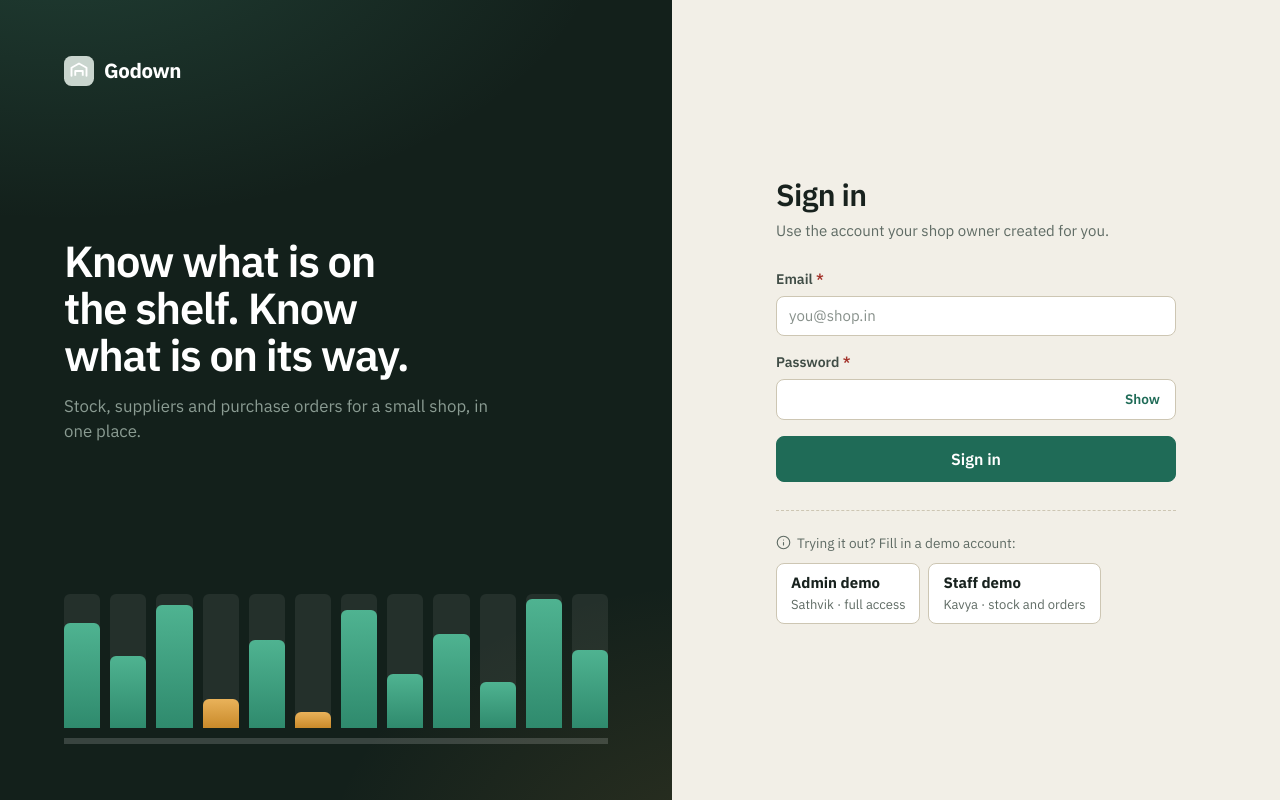
Test case: login › shows the server's message when the login fails
Click the button "Admin demo Sathvik · full access": (848, 593) [776,563,920,624]
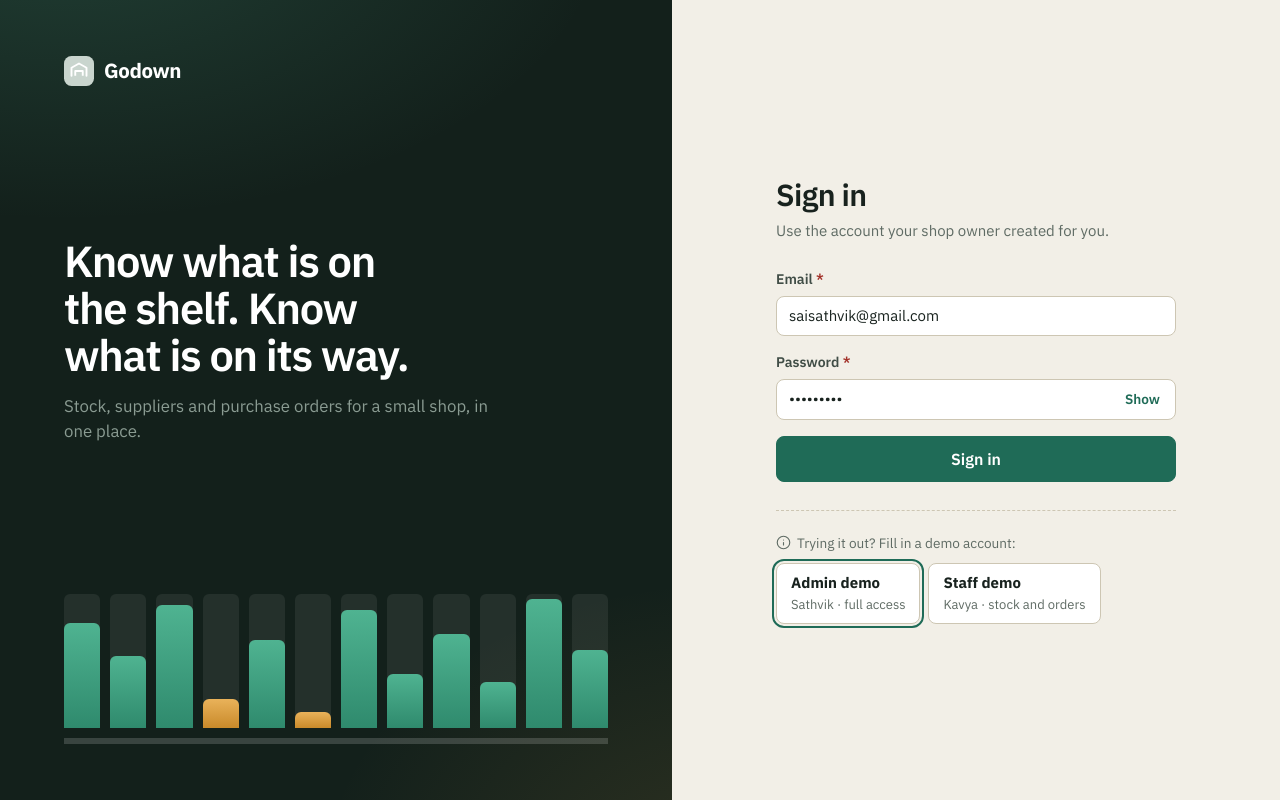
Click the button "Sign in": (976, 458) [776,436,1176,482]
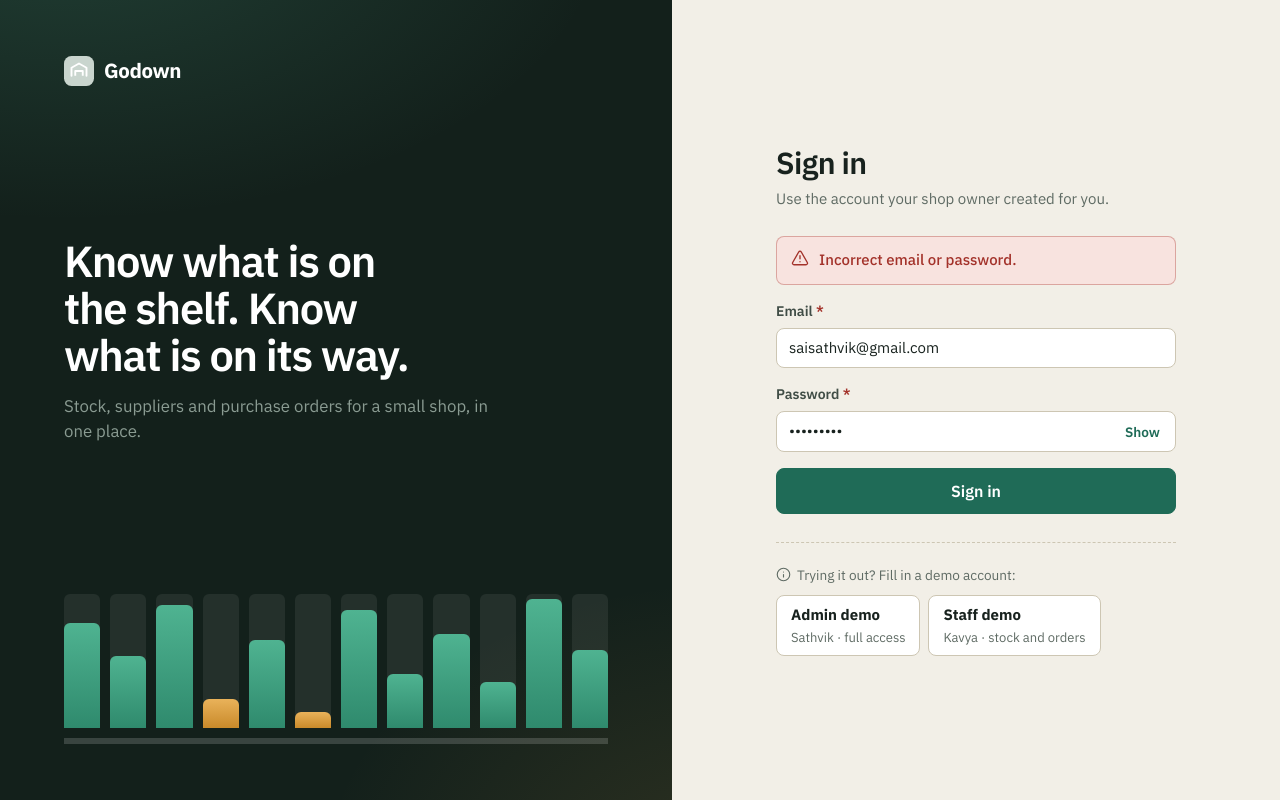
Expected: the text "Incorrect email or password." is shown, [819,249,1016,272]
